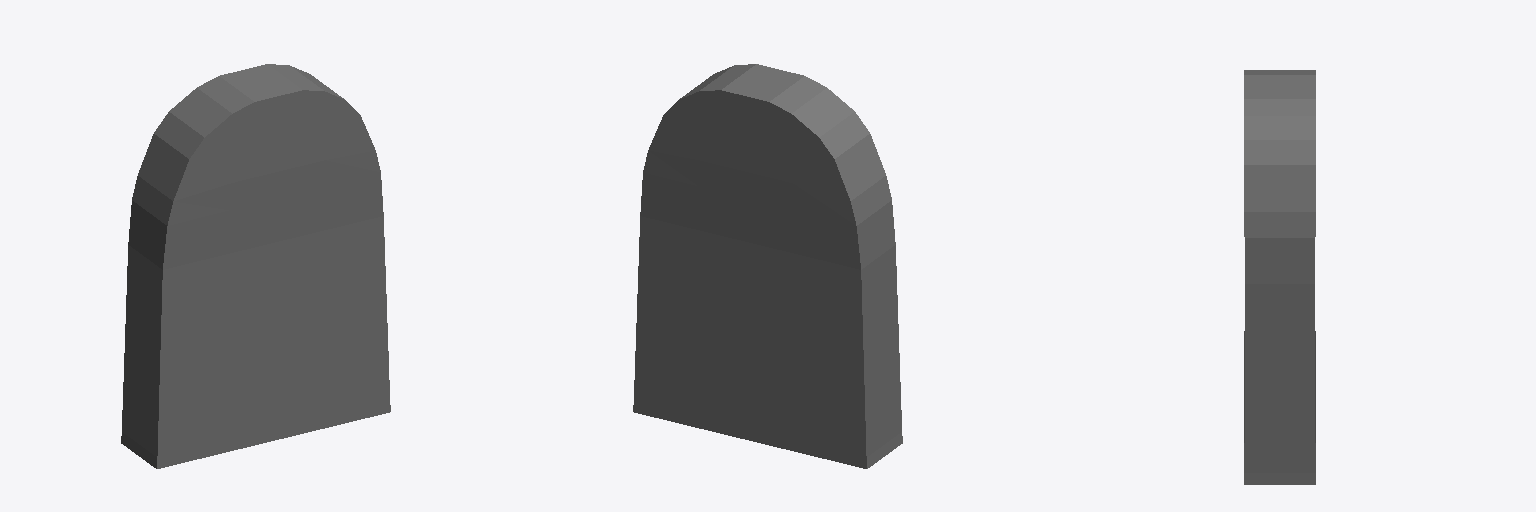
Rendered from tomb3.obj.
The picture shows the model from 3 angles: view 1: azimuth 30°, elevation 25°; view 2: azimuth 150°, elevation 25°; view 3: azimuth 270°, elevation 25°; orthographic projection.
Visible parts, largest first — view 1: SmallTombstone1; view 2: SmallTombstone1; view 3: SmallTombstone1.
Boxes of the visible parts, x1,y1,x2,y2 form: SmallTombstone1: [121, 64, 390, 468]; SmallTombstone1: [633, 64, 902, 468]; SmallTombstone1: [1244, 70, 1315, 484].
Size of the model in its own units: 32.67 by 45.81 by 8.64.